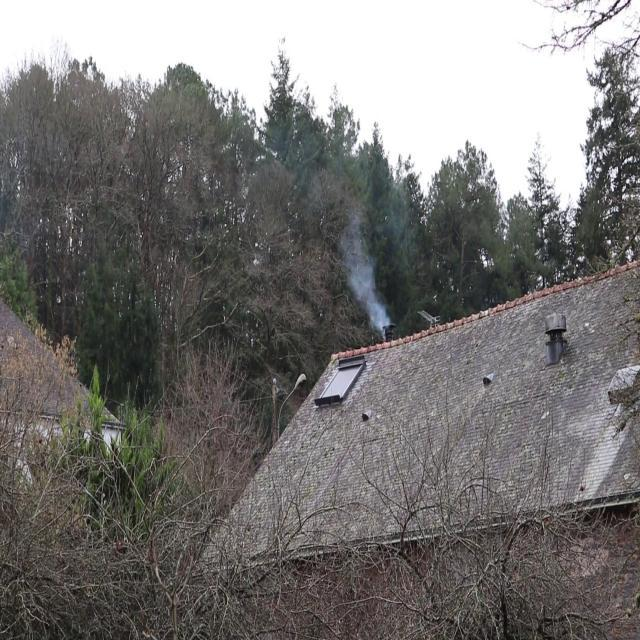Smoke: (344, 248, 394, 332)
